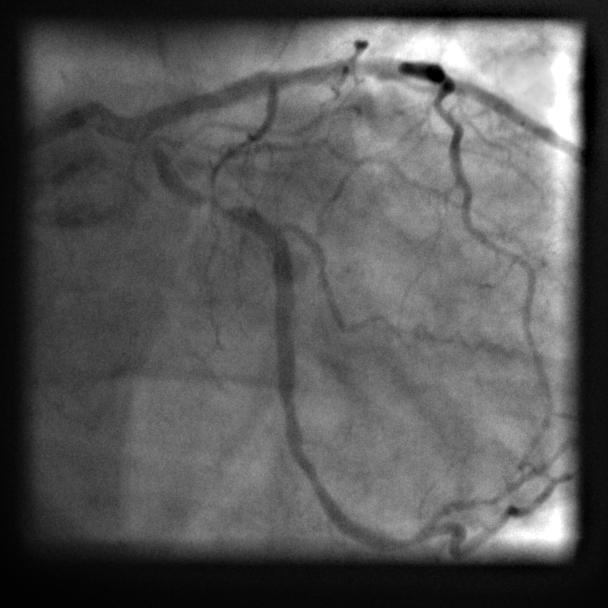Stenosis: (204, 193, 233, 219)
